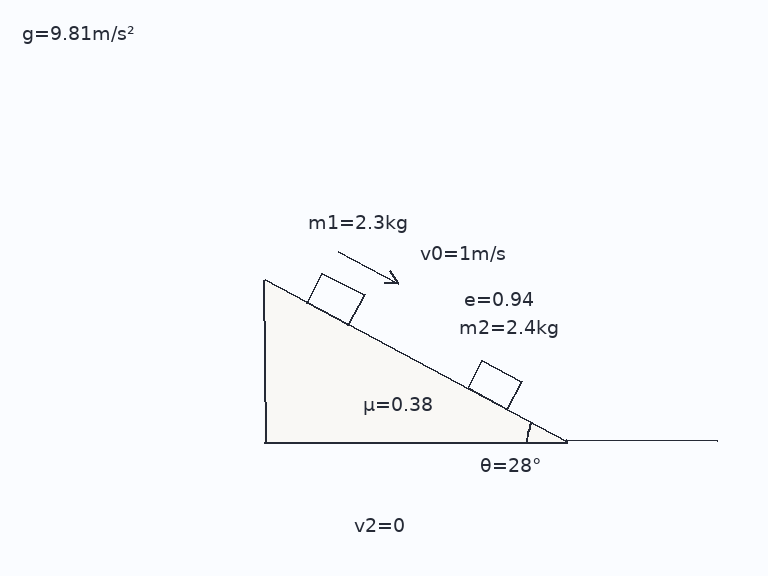block: (305, 271, 366, 326), (465, 357, 523, 411)
ramp: (262, 278, 569, 443)
